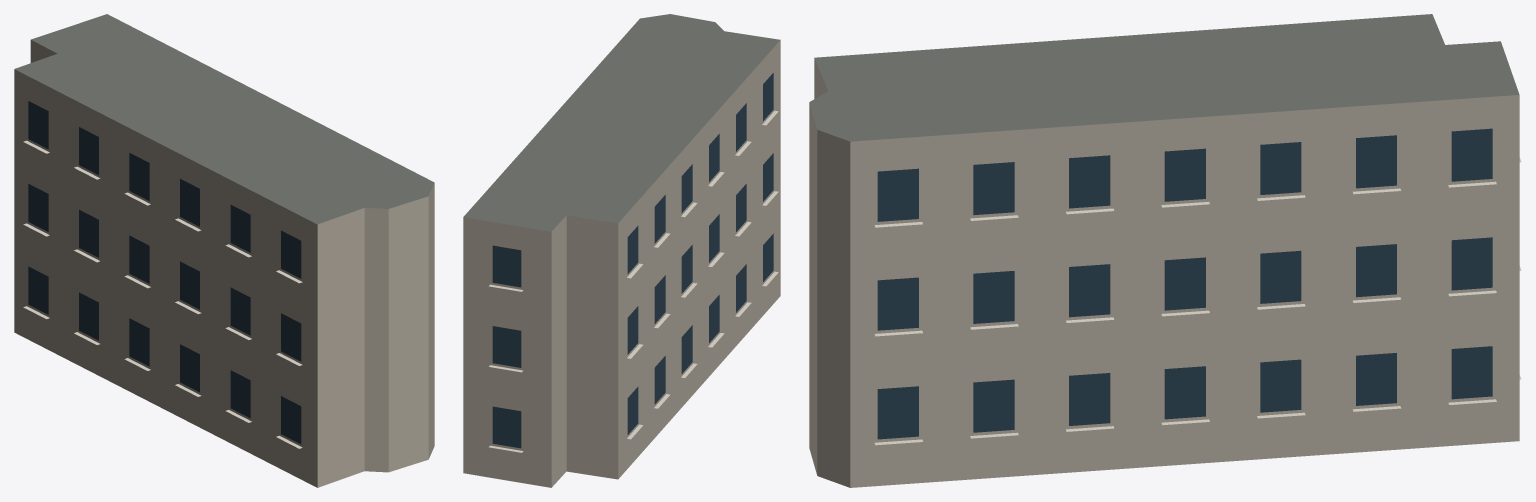
3 views of the same model, side by side, from view 1: azimuth 30°, elevation 25°; view 2: azimuth 150°, elevation 25°; view 3: azimuth 270°, elevation 25° (orthographic). The views are drawn at different scales.
Parts seen in each view (by area): view 1: Footprint 0, Inferred window bays, Window sills; view 2: Footprint 0, Inferred window bays, Window sills; view 3: Footprint 0, Inferred window bays, Window sills.
Part boxes in pixels (box(x1,y1,x2,y2)): Footprint 0: box(14, 14, 434, 487); Inferred window bays: box(28, 101, 301, 444); Window sills: box(23, 140, 302, 448); Footprint 0: box(463, 14, 780, 487); Inferred window bays: box(492, 73, 773, 448); Window sills: box(489, 110, 778, 452); Footprint 0: box(809, 14, 1519, 487); Inferred window bays: box(877, 128, 1492, 439); Window sills: box(874, 157, 1521, 445).
Size of the model in its own units: 9.19 by 11.35 by 21.16.
